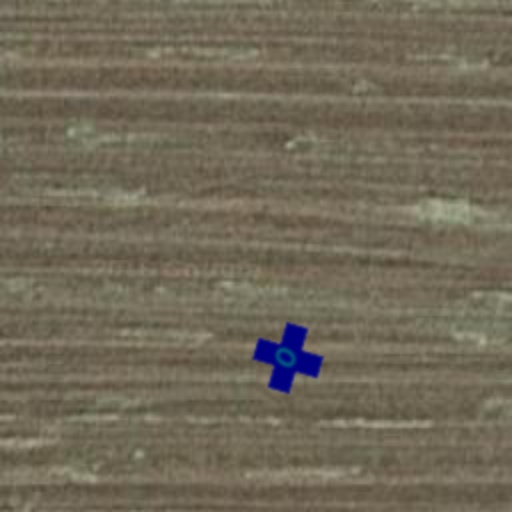cross: (244, 314, 332, 402)
